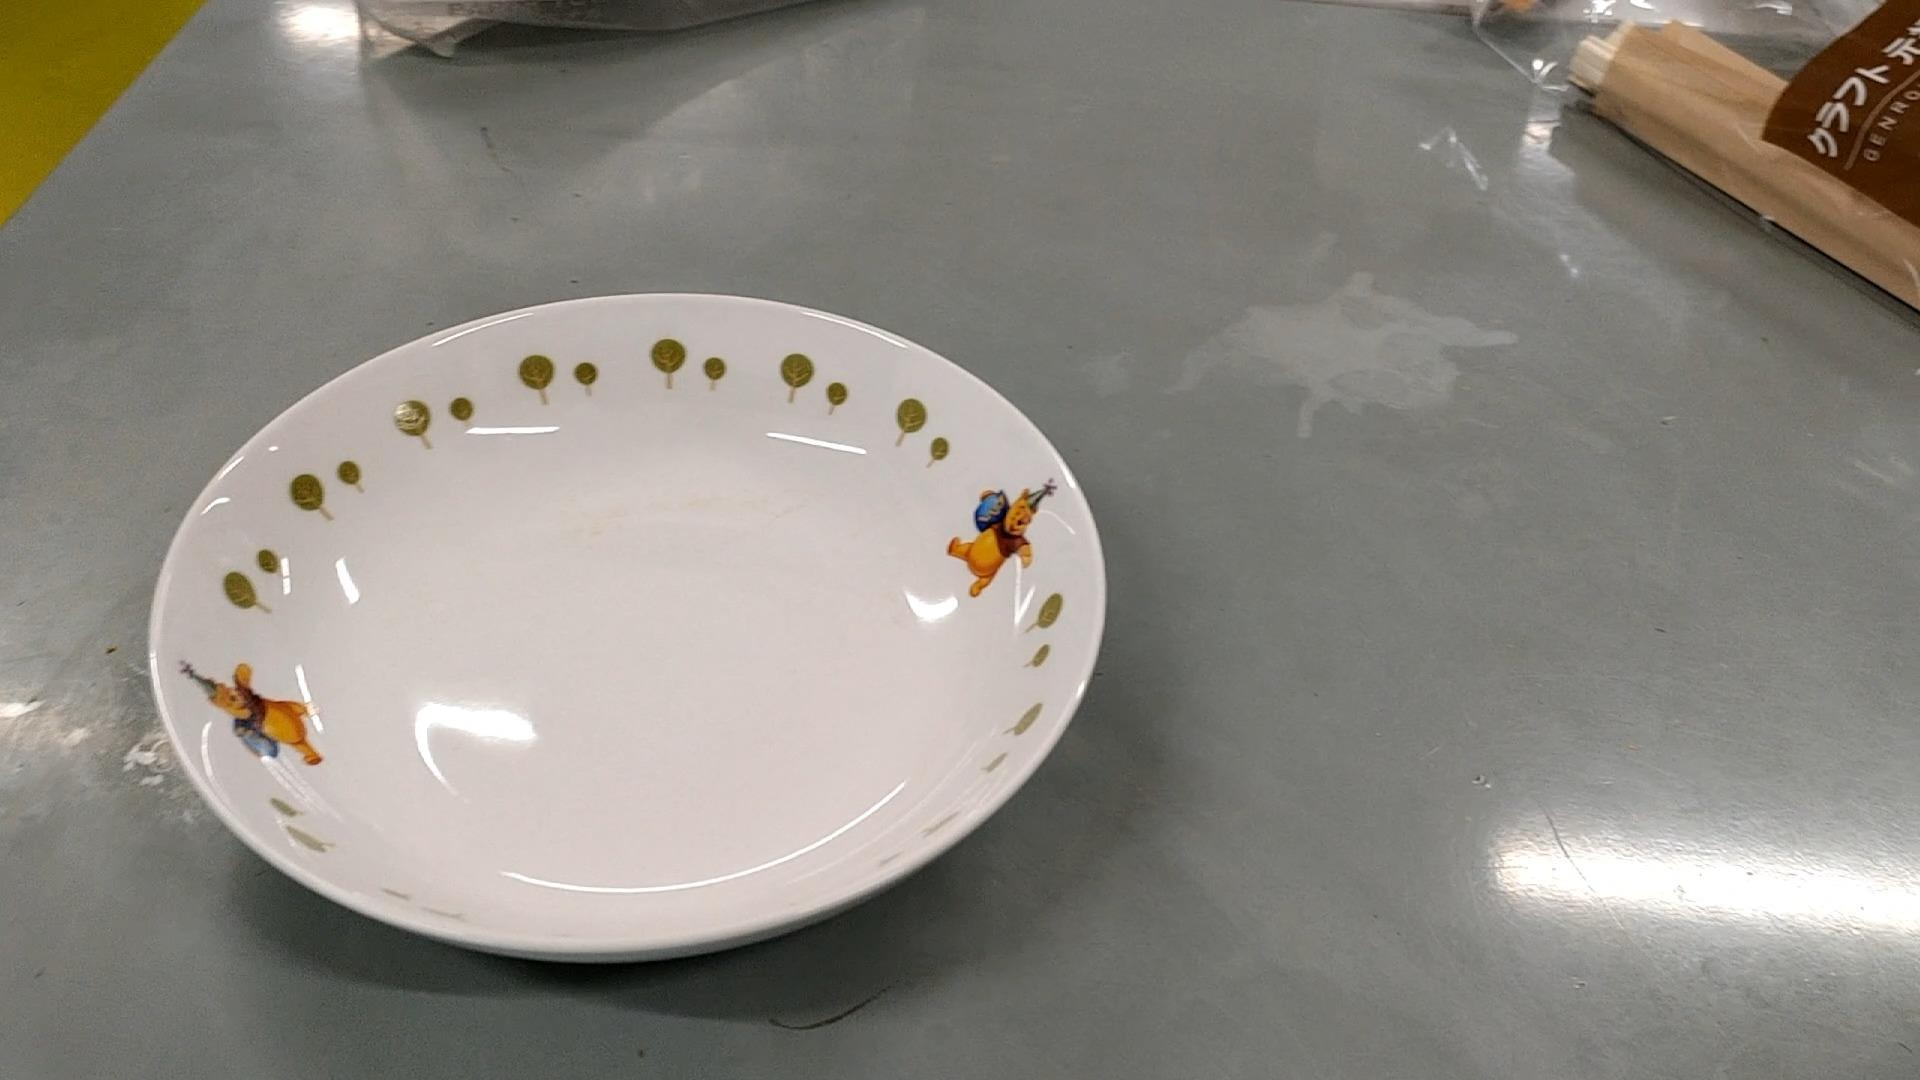plate: (145, 298, 1105, 964)
